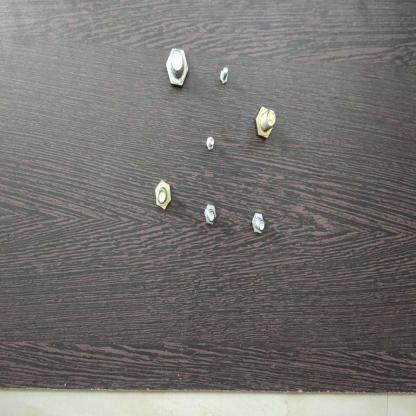Bolts: (164, 41, 188, 92), (254, 102, 278, 144), (153, 176, 176, 212), (249, 210, 268, 242), (203, 200, 219, 233), (218, 65, 234, 88), (206, 130, 218, 154)
